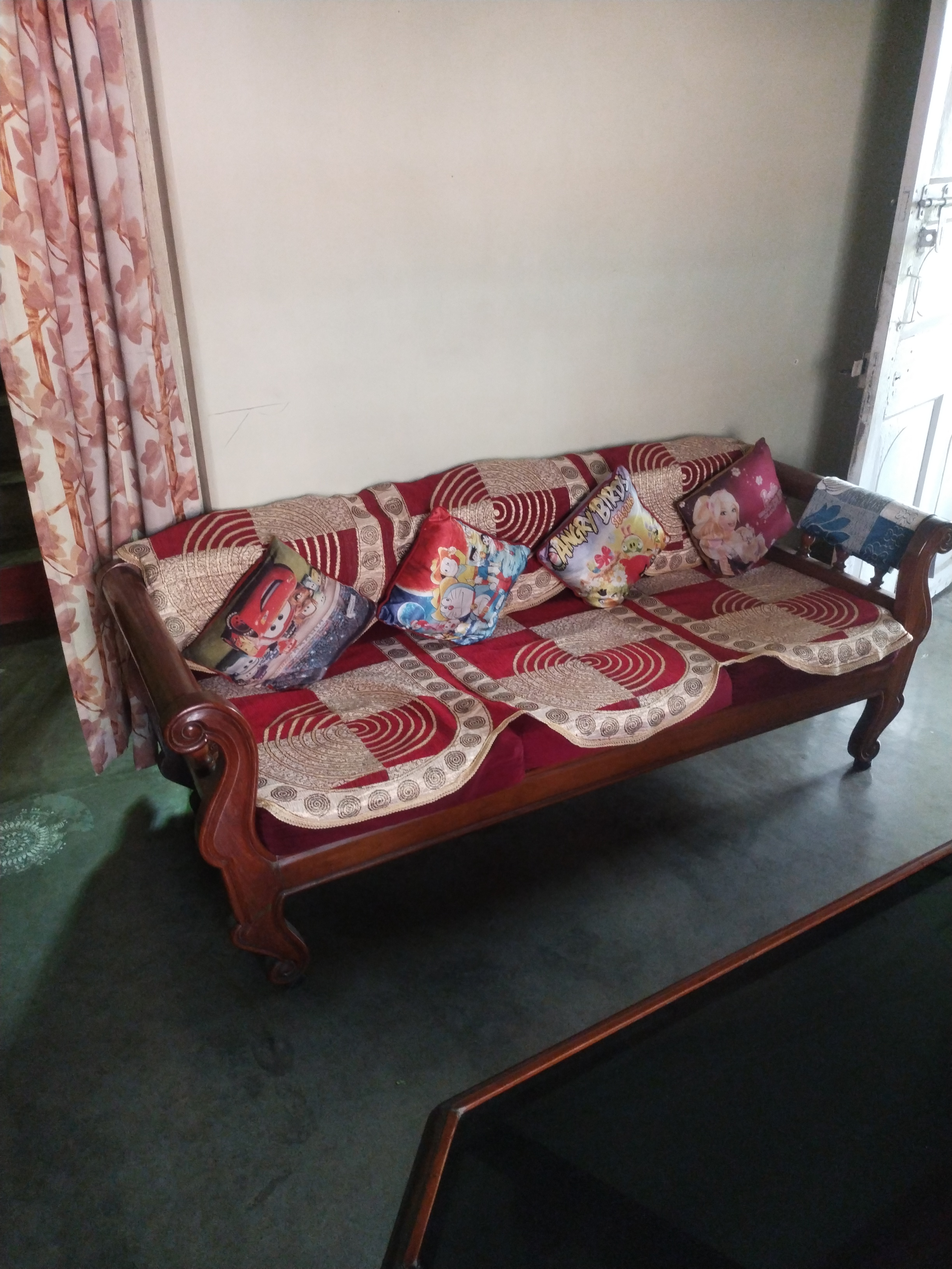sofa: (101, 428, 952, 987)
